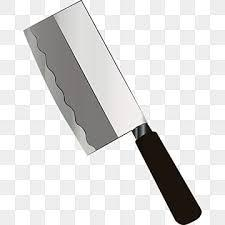Knife: (22, 0, 202, 224)
